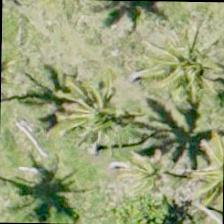Kelapa_Sawit: (45, 60, 137, 152), (144, 12, 223, 104), (167, 114, 223, 206)
